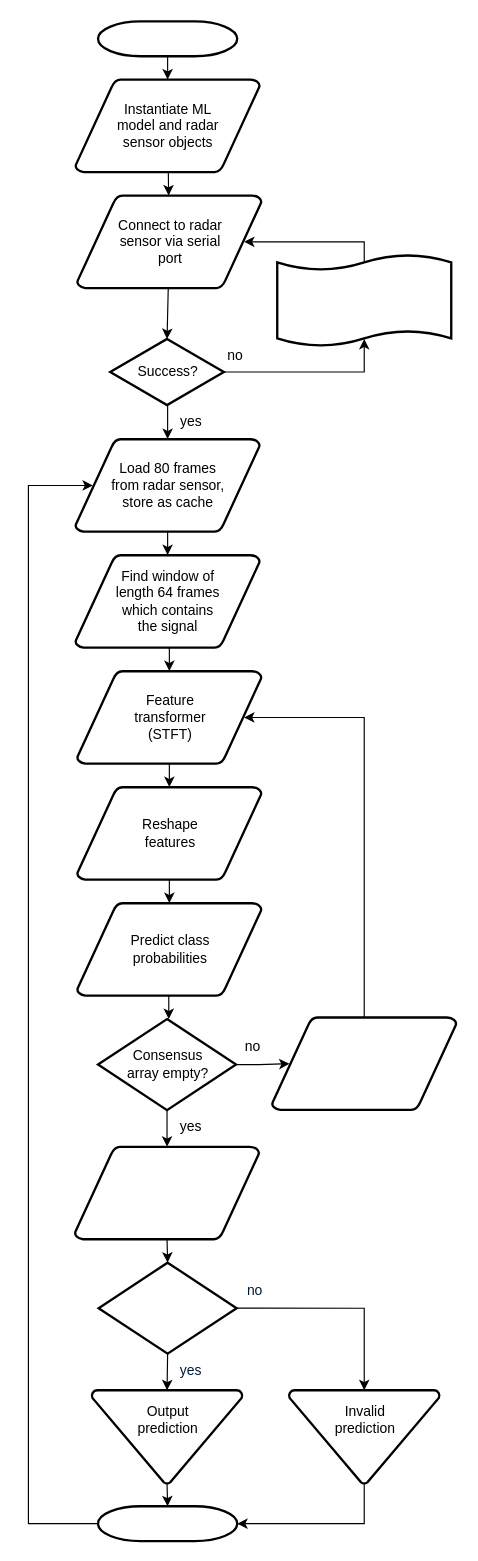
Some shapes in this 478 by 1561 pixel diagram are drawn without their labels. The centre of each missing label's shape, as x and y in pixels:
end: the point at 167,1523
Find highest probability and corresponding class: the point at 166,1192
Print error message and wait for 5 seconds: the point at 364,300
Score > Threshold: the point at 167,1307
Shift frame center with offset: the point at 363,1063
start: the point at 167,38
